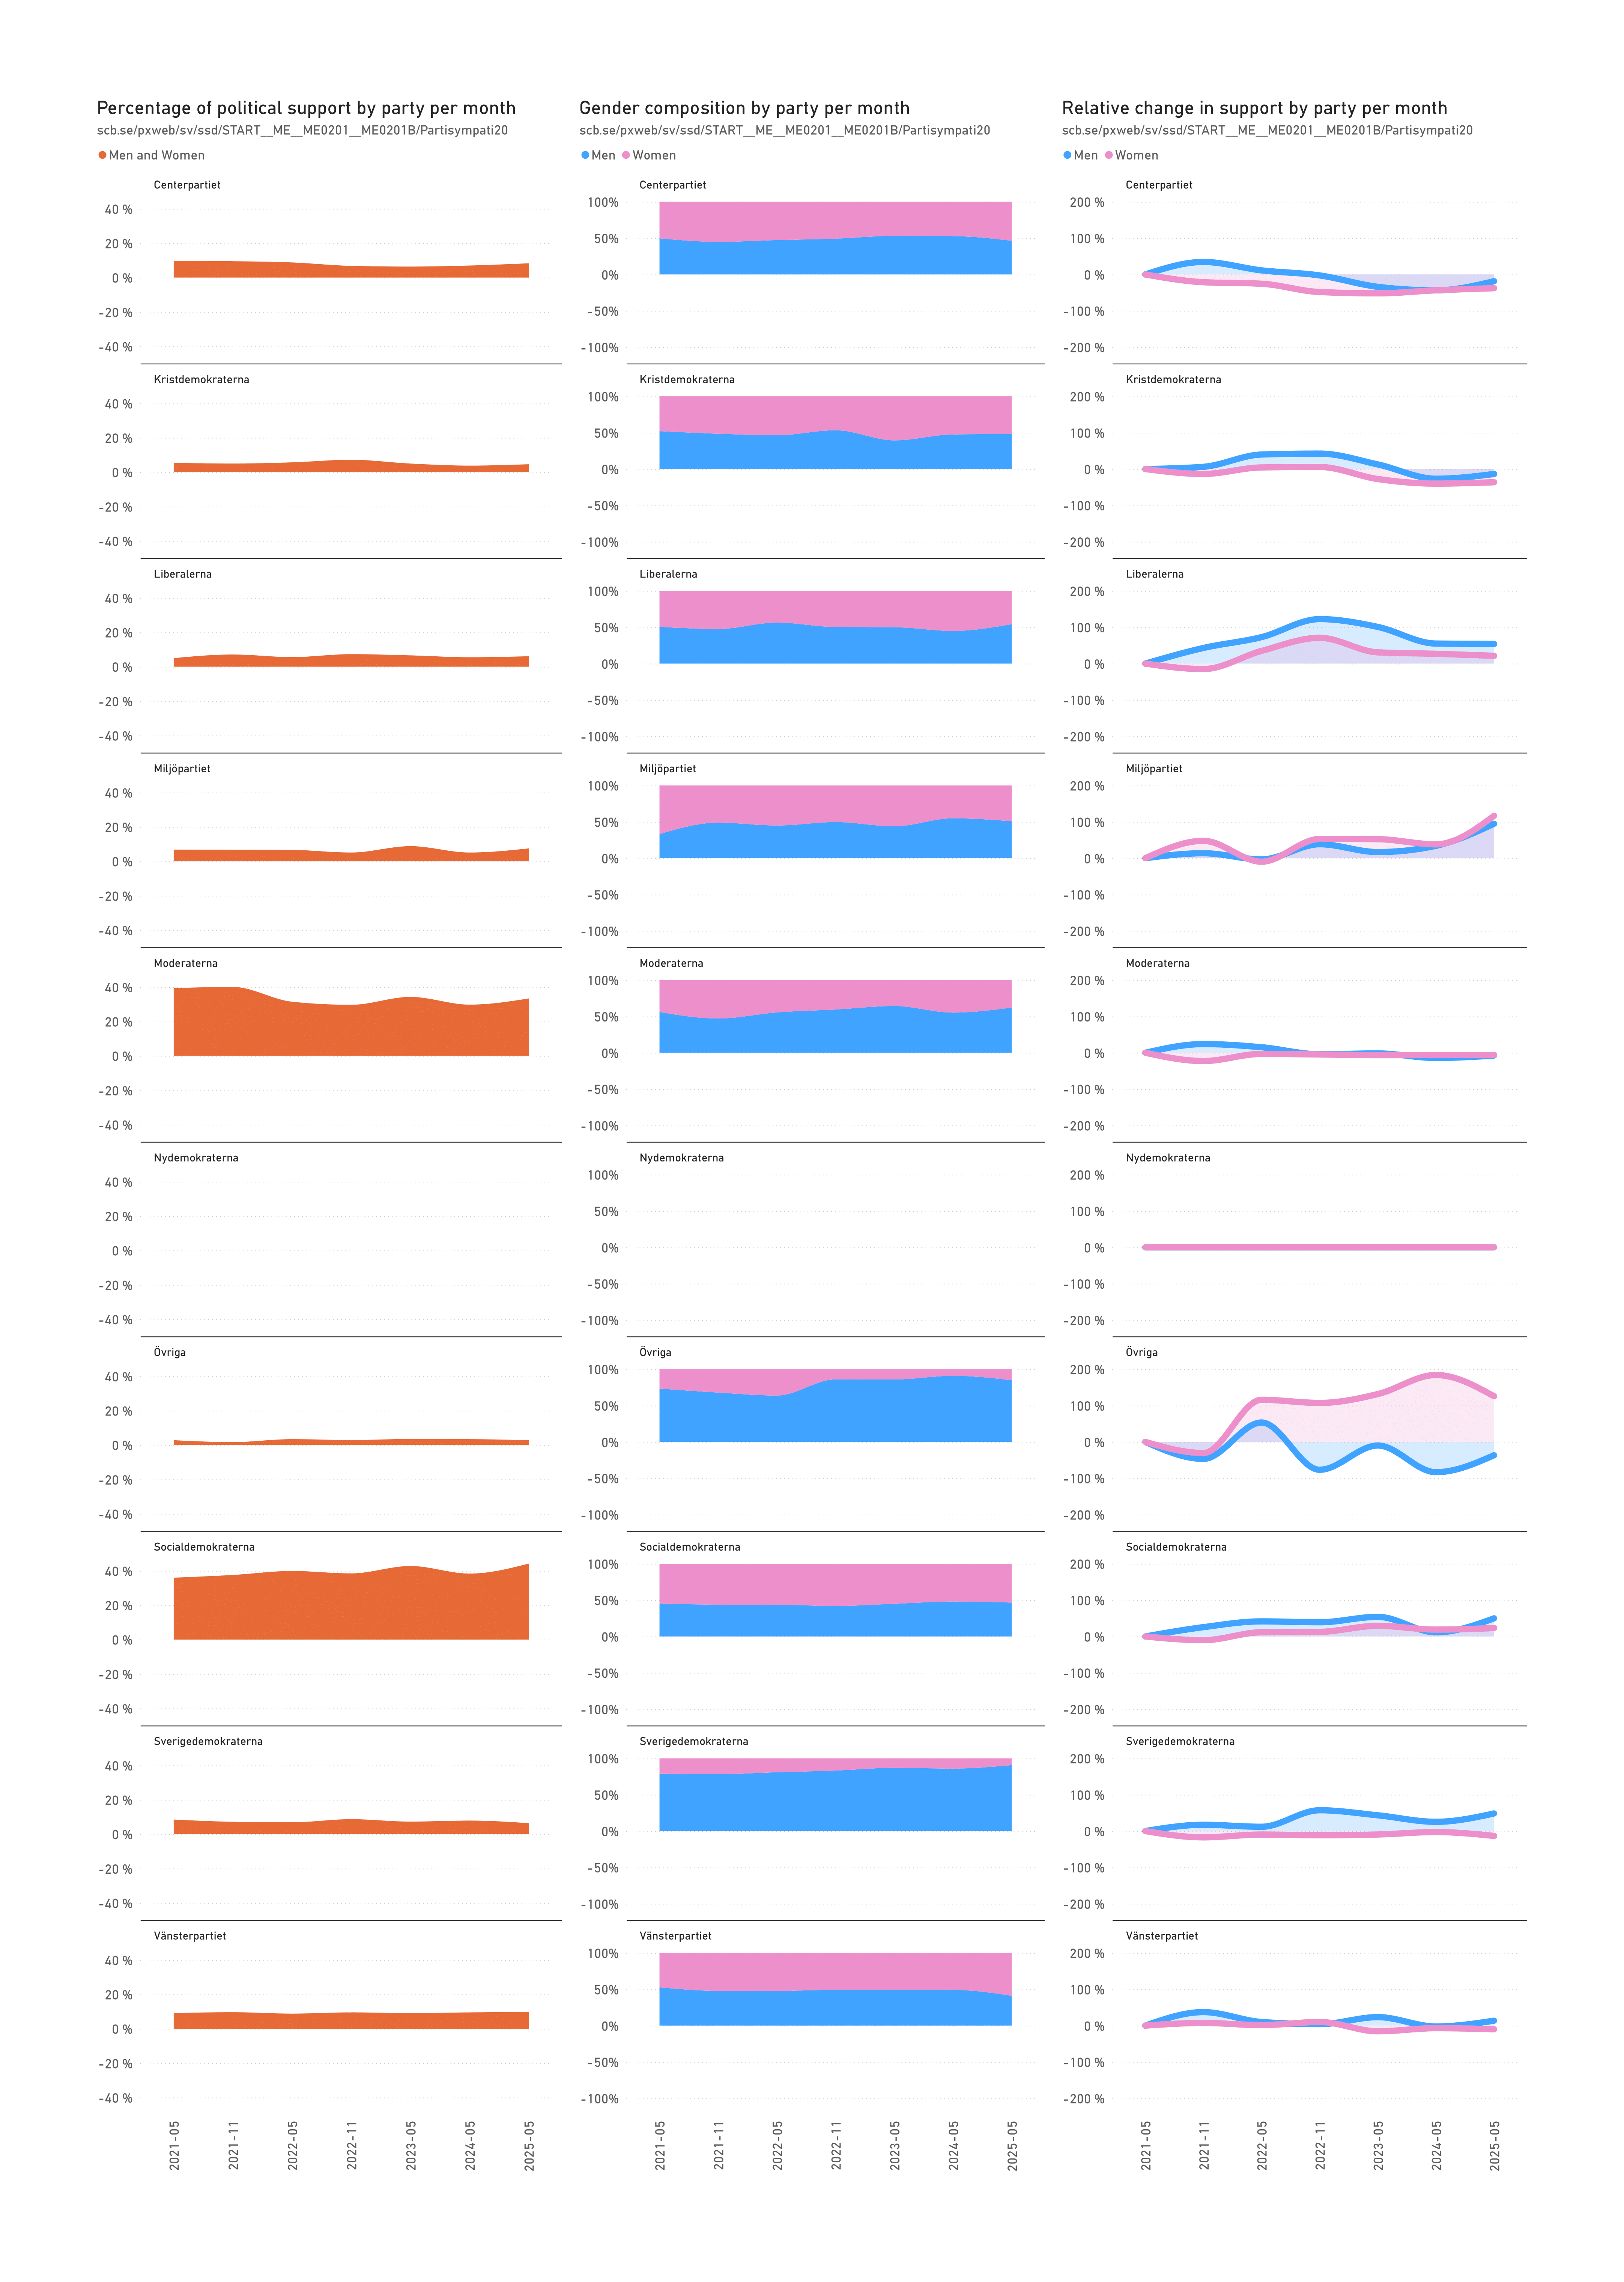

The page's visual inventory and layout, read from the dashboard file:
{"tool":"powerbi","page":{"name":"Duplicate of Divergence","canvas":[2030,2871],"ordinal":6},"visuals":[{"type":"areaChart","title":"Relative change in support by party per month","fields":{"Category":["Partisympatiundersökningen (PSU).Year-Month"],"Y":["Partisympatiundersökningen (PSU).Relative Change (vs First Month) — Kvinnor","Partisympatiundersökningen (PSU).Relative Change (vs First Month) — Män"],"Rows":["Parties.Name"]},"box":[1320,100,610,2670],"z":0},{"type":"stackedAreaChart","title":"Percentage of political support by party per month","fields":{"Category":["Partisympatiundersökningen (PSU).Year-Month"],"Rows":["Parties.Name"],"Y":["Partisympatiundersökningen (PSU).Percentage2"],"Series":["Partisympatiundersökningen (PSU).Gender"]},"box":[100,100,610,2671],"z":1000},{"type":"hundredPercentStackedAreaChart","title":"Gender composition by party per month","fields":{"Category":["Partisympatiundersökningen (PSU).Year-Month"],"Rows":["Parties.Name"],"Y":["Partisympatiundersökningen (PSU).Percentage (män)","Partisympatiundersökningen (PSU).Percentage (kvinnor)"]},"box":[710,100,610,2670],"z":2000}]}

Visuals, with their boxes on the page's 2030x2871 design canvas (x1, y1, x2, y2). These are canvas units, not pixel positions in the 1624x2282 screenshot, which may show the page scaled, cropped or inside an application window:
"Relative change in support by party per month" areaChart: {"x1": 1320, "y1": 100, "x2": 1930, "y2": 2770}
"Percentage of political support by party per month" stackedAreaChart: {"x1": 100, "y1": 100, "x2": 710, "y2": 2771}
"Gender composition by party per month" hundredPercentStackedAreaChart: {"x1": 710, "y1": 100, "x2": 1320, "y2": 2770}
